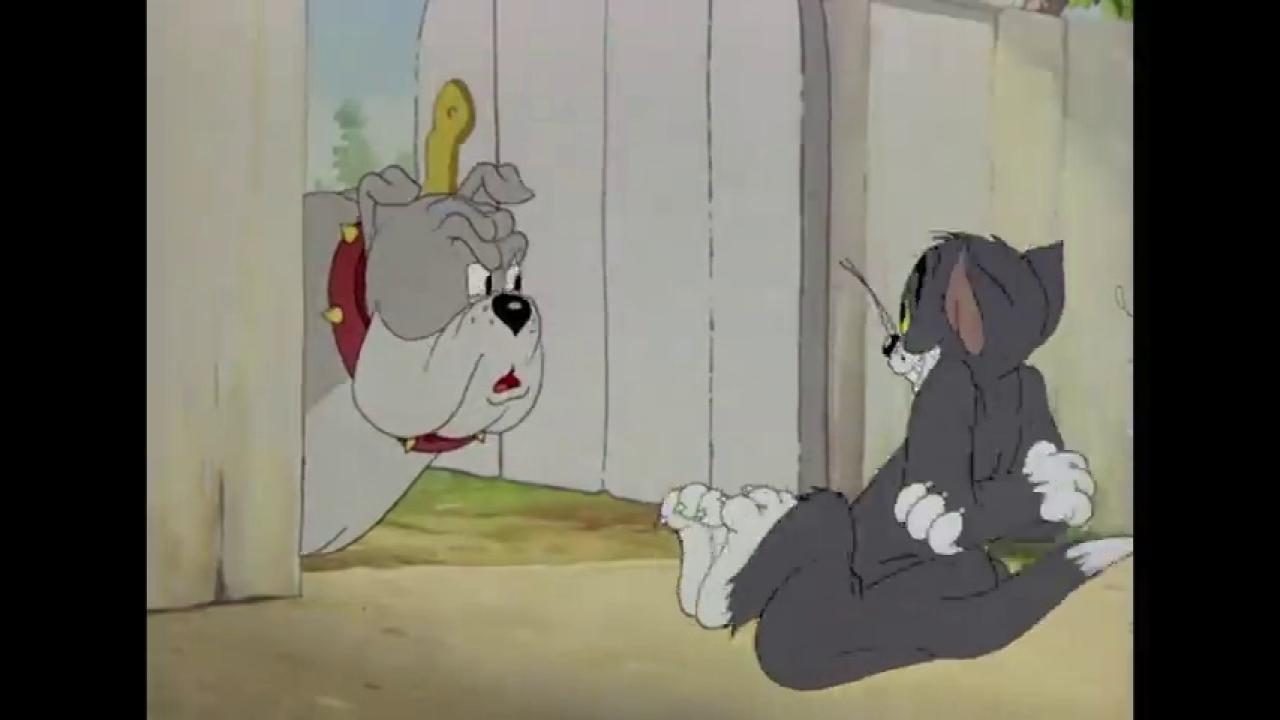Tom: (653, 230, 1133, 693)
